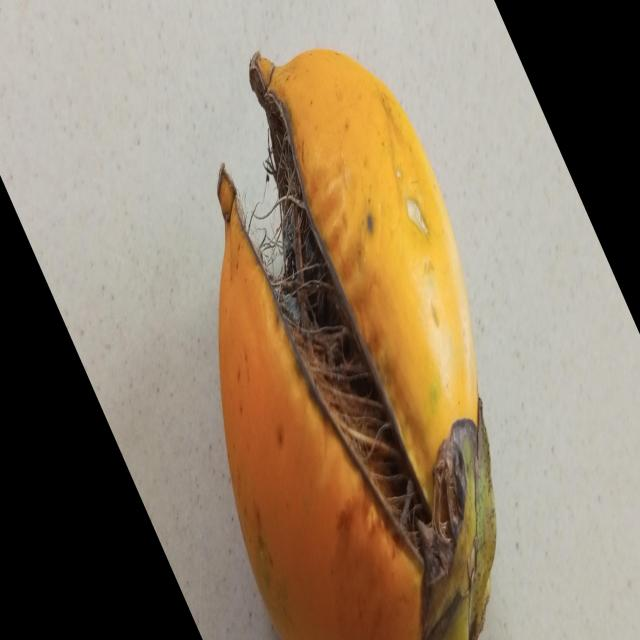damaged: (217, 50, 496, 640)
